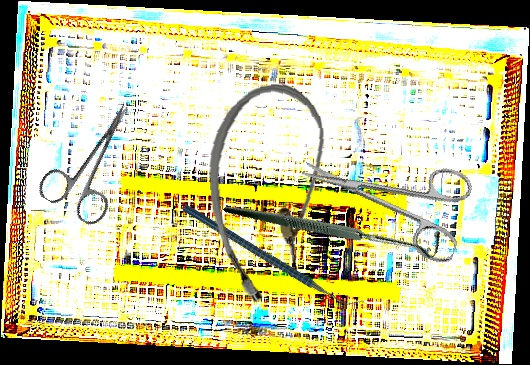Cannula: (201, 80, 339, 306)
Chopper: (181, 156, 366, 355)
Hook Surgical: (223, 117, 448, 332)
Iris Scissors: (289, 121, 481, 267), (34, 88, 159, 230)
